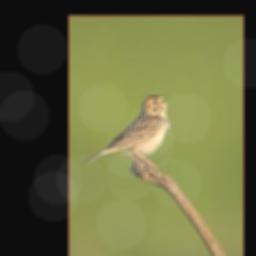Sparrow: (84, 94, 169, 171)
